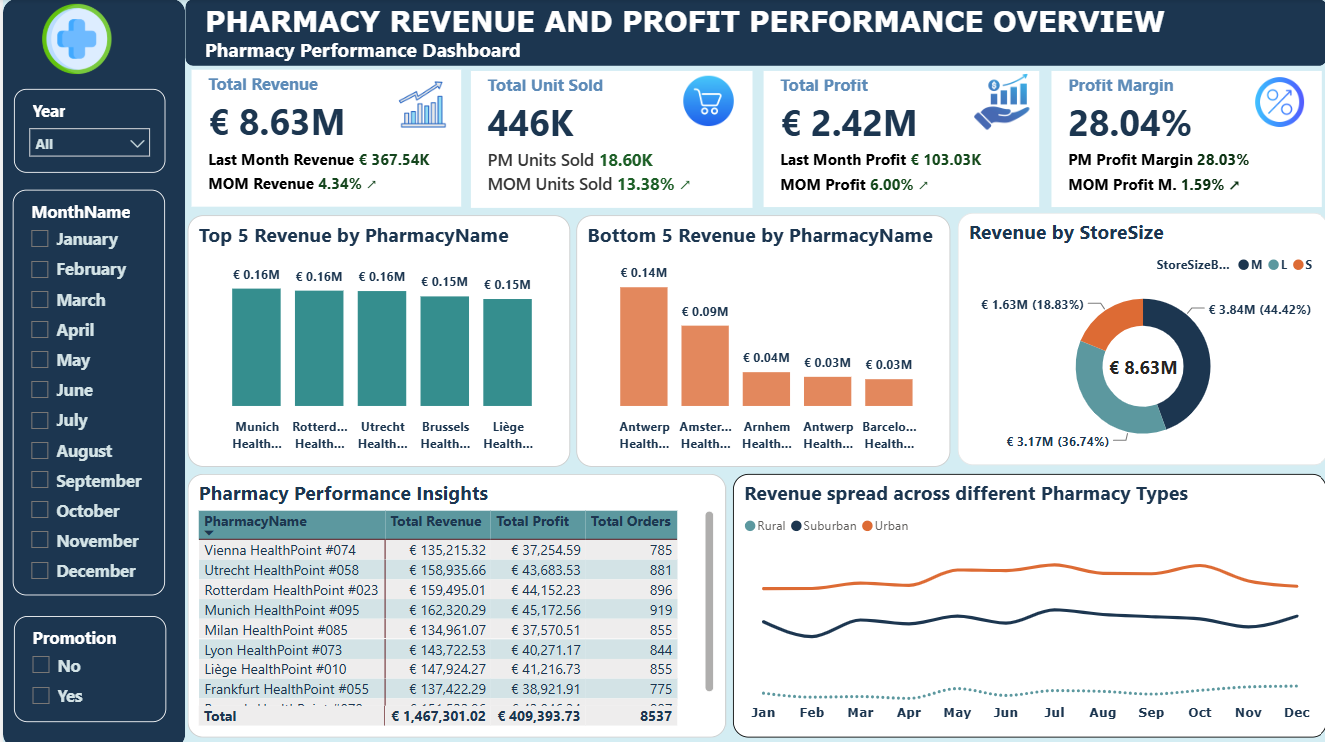

The page's visual inventory and layout, read from the dashboard file:
{"tool":"powerbi","page":{"name":"Performance Dashboard","canvas":[1280,720],"ordinal":3},"visuals":[{"type":"shape","box":[175.7,0,1099.2,64.5],"z":0},{"type":"shape","box":[0,0,175.2,720.2],"z":1000},{"type":"cardVisual","fields":{"Data":["DAX.Total Unit Sold"]},"box":[445.1,64.6,281.6,142.9],"z":2000},{"type":"cardVisual","fields":{"Data":["DAX.Total profit"]},"box":[726.5,64.4,275.9,141.4],"z":3000},{"type":"cardVisual","fields":{"Data":["DAX.Profit Margin"]},"box":[1003.2,64.5,271.7,141.4],"z":4000},{"type":"donutChart","title":"Revenue by StoreSize","fields":{"Category":["T_DimPharmacy.StoreSizeBand"],"Y":["DAX.Total Revenue"]},"box":[917.7,206.1,357.2,243.2],"z":5000},{"type":"textbox","box":[189.1,0,1061.2,56.9],"z":6000},{"type":"slicer","fields":{"Values":["T_DimDate.Year"]},"box":[10.5,86.5,146,80.6],"z":7000},{"type":"slicer","fields":{"Values":["T_DimDate.MonthName"]},"box":[9.3,183.4,146.3,390.5],"z":8000},{"type":"clusteredColumnChart","title":"Top 5 Revenue by PharmacyName","fields":{"Category":["T_DimPharmacy.PharmacyName"],"Y":["DAX.Total Revenue"]},"box":[177.2,207.4,368.2,241.8],"z":9000},{"type":"clusteredColumnChart","title":"Bottom 5 Revenue by PharmacyName","fields":{"Category":["T_DimPharmacy.PharmacyName"],"Y":["DAX.Total Revenue"]},"box":[550.9,207.4,359.9,241.8],"z":10000},{"type":"lineChart","fields":{"Category":["T_DimDate.MonthNumber"],"Y":["DAX.Total profit"]},"box":[820.9,514.6,150.4,69],"z":11000},{"type":"lineChart","title":"Revenue spread across different Pharmacy Types","fields":{"Category":["T_DimDate.Month Short Form"],"Series":["T_DimPharmacy.PharmacyType"],"Y":["DAX.Total Revenue"]},"box":[702.1,456.8,572.5,260.5],"z":12000},{"type":"pivotTable","title":"Pharmacy Performance Insights","fields":{"Rows":["T_DimPharmacy.PharmacyName"],"Values":["DAX.Total Revenue","DAX.Total Profit","DAX.Total Orders"]},"box":[177.6,456.8,517.5,260.5],"z":13000},{"type":"slicer","fields":{"Values":["T_FactSales.PromoFlag"]},"box":[11,593.5,146.3,102.1],"z":14000},{"type":"cardVisual","fields":{"Data":["DAX.Total Revenue"]},"box":[175.8,63.2,269.3,142.9],"z":15000},{"type":"image","box":[11,4.1,120.8,67.2],"z":16000},{"type":"textbox","box":[189.1,31.8,405.1,40.2],"z":17000},{"type":"image","box":[931.8,71.4,56.3,54.9],"z":19000},{"type":"image","box":[370.5,75.5,65.9,50.8],"z":20000},{"type":"image","box":[1196.7,74.1,63.1,50.8],"z":20001},{"type":"image","box":[638.1,71.4,81,53.5],"z":20002}]}

Visuals, with their boxes in screenshot pixels (x1, y1, x2, y2), scaled from the page's 1280x720 canvas onto the 1325x742 screenshot:
shape: (x1=182, y1=0, x2=1320, y2=66)
shape: (x1=0, y1=0, x2=181, y2=741)
cardVisual - DAX.Total Unit Sold: (x1=461, y1=67, x2=752, y2=214)
cardVisual - DAX.Total profit: (x1=752, y1=66, x2=1038, y2=212)
cardVisual - DAX.Profit Margin: (x1=1038, y1=66, x2=1320, y2=212)
"Revenue by StoreSize" donutChart: (x1=950, y1=212, x2=1320, y2=463)
textbox: (x1=196, y1=0, x2=1294, y2=59)
slicer - T_DimDate.Year: (x1=11, y1=89, x2=162, y2=172)
slicer - T_DimDate.MonthName: (x1=10, y1=189, x2=161, y2=591)
"Top 5 Revenue by PharmacyName" clusteredColumnChart: (x1=183, y1=214, x2=565, y2=463)
"Bottom 5 Revenue by PharmacyName" clusteredColumnChart: (x1=570, y1=214, x2=943, y2=463)
lineChart - T_DimDate.MonthNumber x DAX.Total profit: (x1=850, y1=530, x2=1005, y2=601)
"Revenue spread across different Pharmacy Types" lineChart: (x1=727, y1=471, x2=1319, y2=739)
"Pharmacy Performance Insights" pivotTable: (x1=184, y1=471, x2=720, y2=739)
slicer - T_FactSales.PromoFlag: (x1=11, y1=612, x2=163, y2=717)
cardVisual - DAX.Total Revenue: (x1=182, y1=65, x2=461, y2=212)
image: (x1=11, y1=4, x2=136, y2=73)
textbox: (x1=196, y1=33, x2=615, y2=74)
image: (x1=965, y1=74, x2=1023, y2=130)
image: (x1=384, y1=78, x2=452, y2=130)
image: (x1=1239, y1=76, x2=1304, y2=129)
image: (x1=661, y1=74, x2=744, y2=129)
